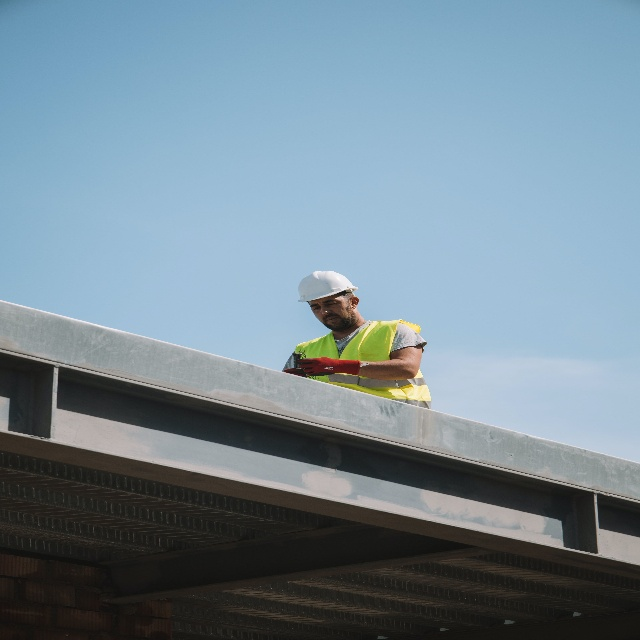Guantes: (294, 356, 360, 377), (284, 367, 309, 377)
